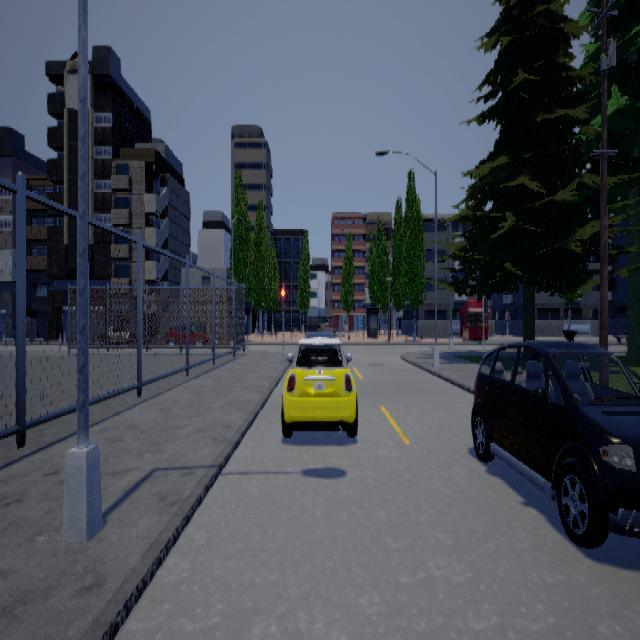red_light: (282, 283, 286, 315)
vehicle: (472, 338, 640, 548), (282, 330, 359, 436)
